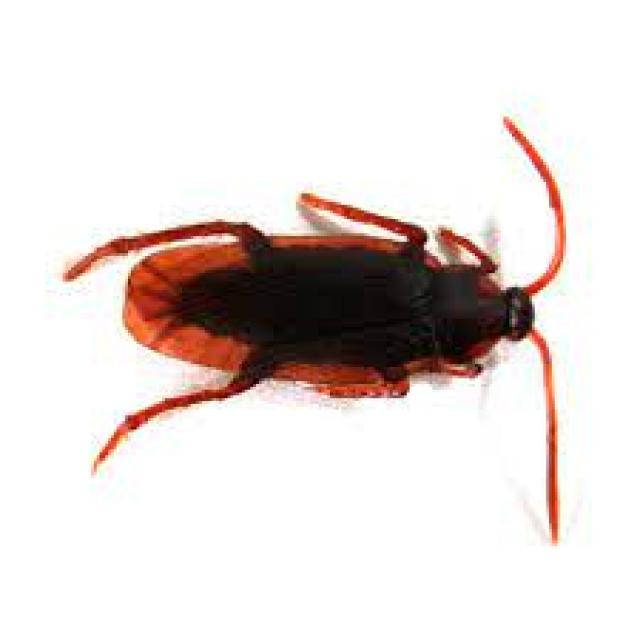Cockroach: (27, 171, 611, 466)
